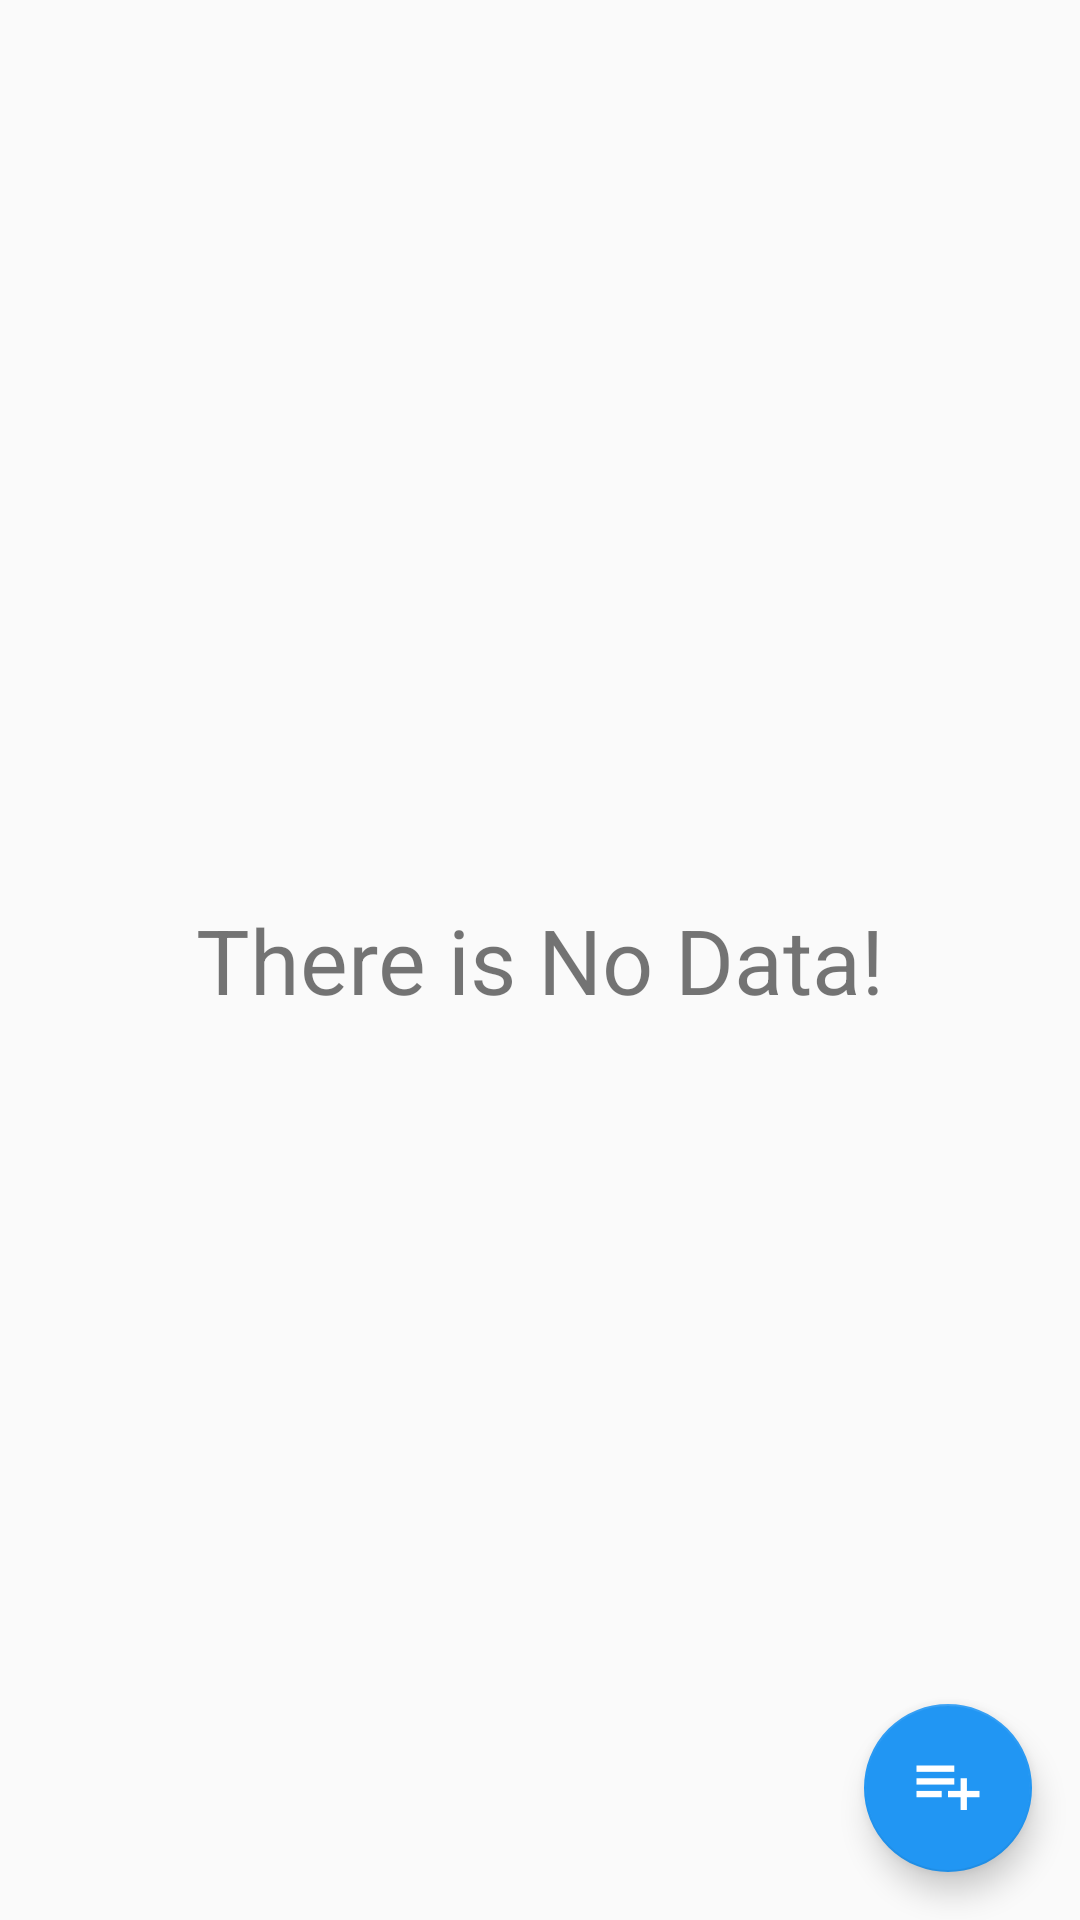

Locate icon controls on the screen. Image size 1080px×1920px, boxes as [x1=x1, y1=y1, x2=x2, y2=y2].
add playlist: [x1=864, y1=1704, x2=1032, y2=1872]
